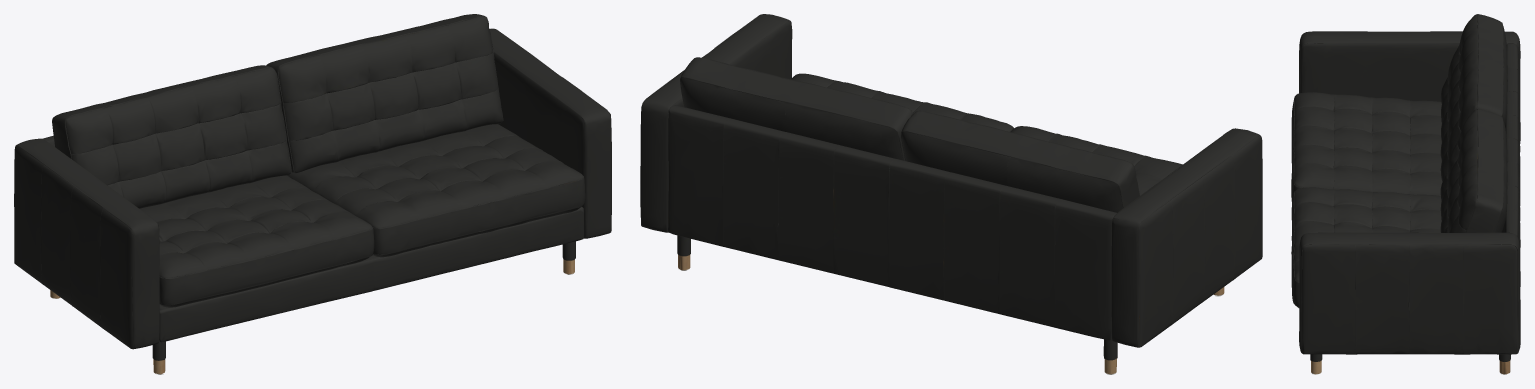
The model's file is 03 - LANDSKRONA Three-seat sofa - GrannBomstad blackwood.glb.
3 views of the same model, side by side, from view 1: azimuth 30°, elevation 25°; view 2: azimuth 150°, elevation 25°; view 3: azimuth 270°, elevation 25° (orthographic). The views are drawn at different scales.
Parts seen in each view (by area): view 1: Mesh_0; view 2: Mesh_0; view 3: Mesh_0.
Part boxes in pixels (bbox=[...]): Mesh_0: bbox=[14, 14, 611, 374]; Mesh_0: bbox=[640, 14, 1262, 374]; Mesh_0: bbox=[1291, 14, 1520, 374].
Size of the model in its own units: 2.07 by 0.7831 by 0.9238.
1 material, 1 textured.
